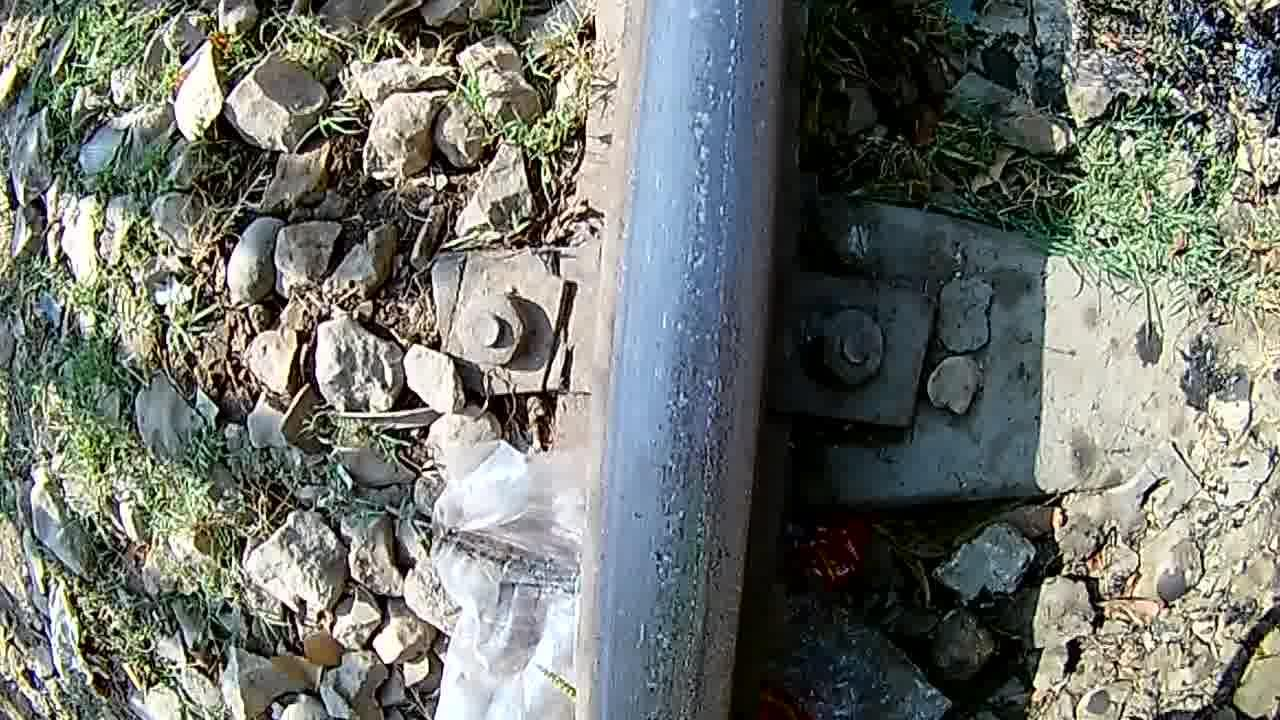clip_missing: (613, 5, 742, 718)
